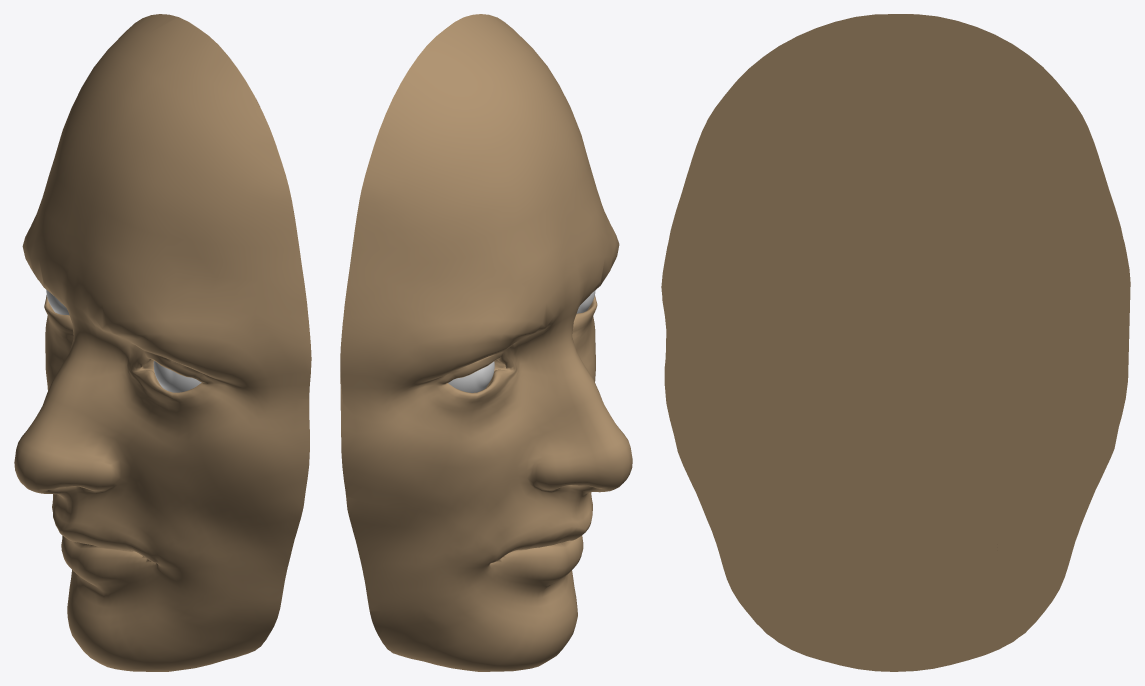
The model's file is head304.fbx.
The picture shows the model from 3 angles, left to right: view 1: azimuth 30°, elevation 25°; view 2: azimuth 150°, elevation 25°; view 3: azimuth 270°, elevation 25°; orthographic projection. The views are drawn at different scales.
Parts seen in each view (by area): view 1: HG_Body.007, HG_Eyes; view 2: HG_Body.007, HG_Eyes; view 3: HG_Body.007.
Part boxes in pixels (x1,y1,x2,y2): HG_Body.007: (14,14,311,671); HG_Eyes: (46,290,201,392); HG_Body.007: (340,14,632,671); HG_Eyes: (448,290,595,392); HG_Body.007: (661,14,1130,671).
Size of the model in its own units: 6.83 by 21.55 by 13.83.
